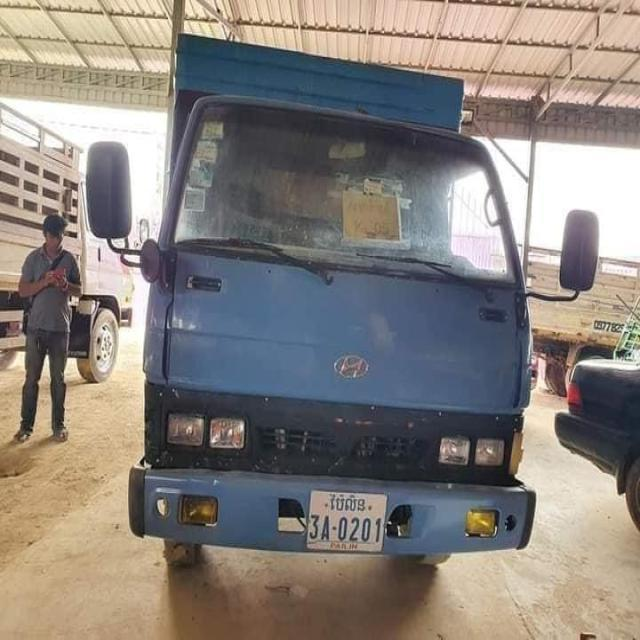Pailin: (329, 493, 365, 513)
